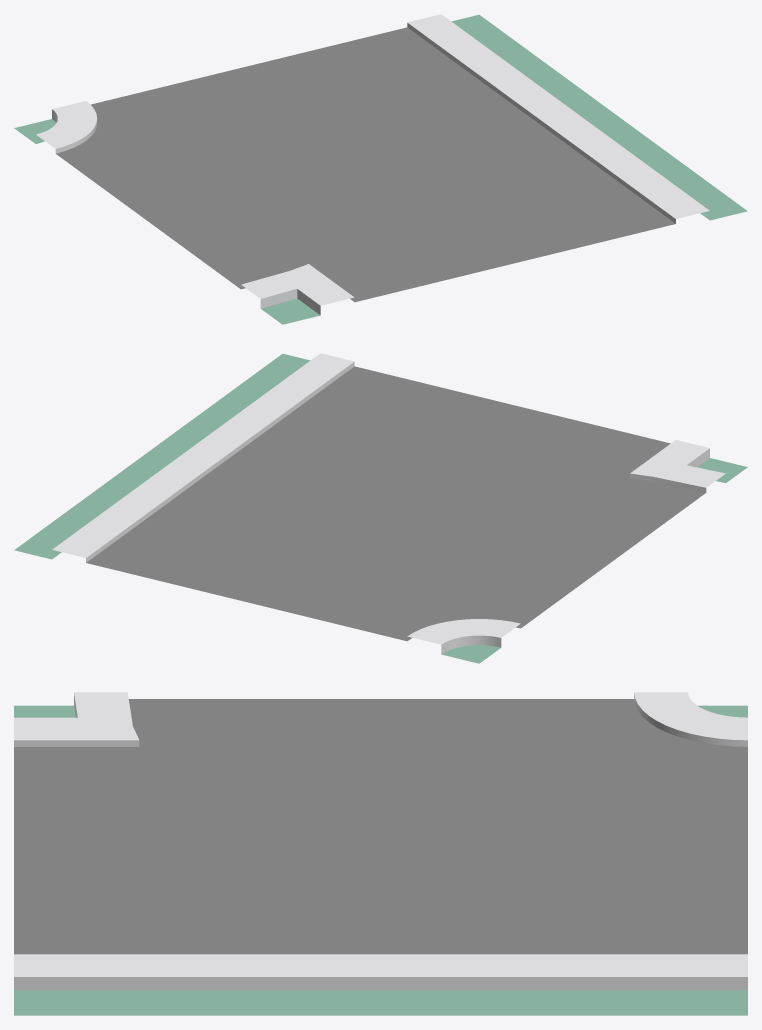
The model's file is roadSplitSmall.glb.
The picture shows the model from 3 angles, top to bottom: view 1: azimuth 30°, elevation 25°; view 2: azimuth 150°, elevation 25°; view 3: azimuth 270°, elevation 25°; orthographic projection. The views are drawn at different scales.
Parts seen in each view (by area): view 1: roadSplitSmall; view 2: roadSplitSmall; view 3: roadSplitSmall.
Boxes of the visible parts, left/top/right/bottom form: roadSplitSmall: left=14, top=14, right=747, bottom=324; roadSplitSmall: left=14, top=353, right=747, bottom=663; roadSplitSmall: left=14, top=692, right=747, bottom=1015.
Bounding box in the file's own units: 1 × 0.02 × 1.
